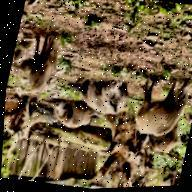boar: (71, 51, 163, 120), (8, 15, 73, 110), (123, 71, 192, 149), (41, 96, 96, 134)
